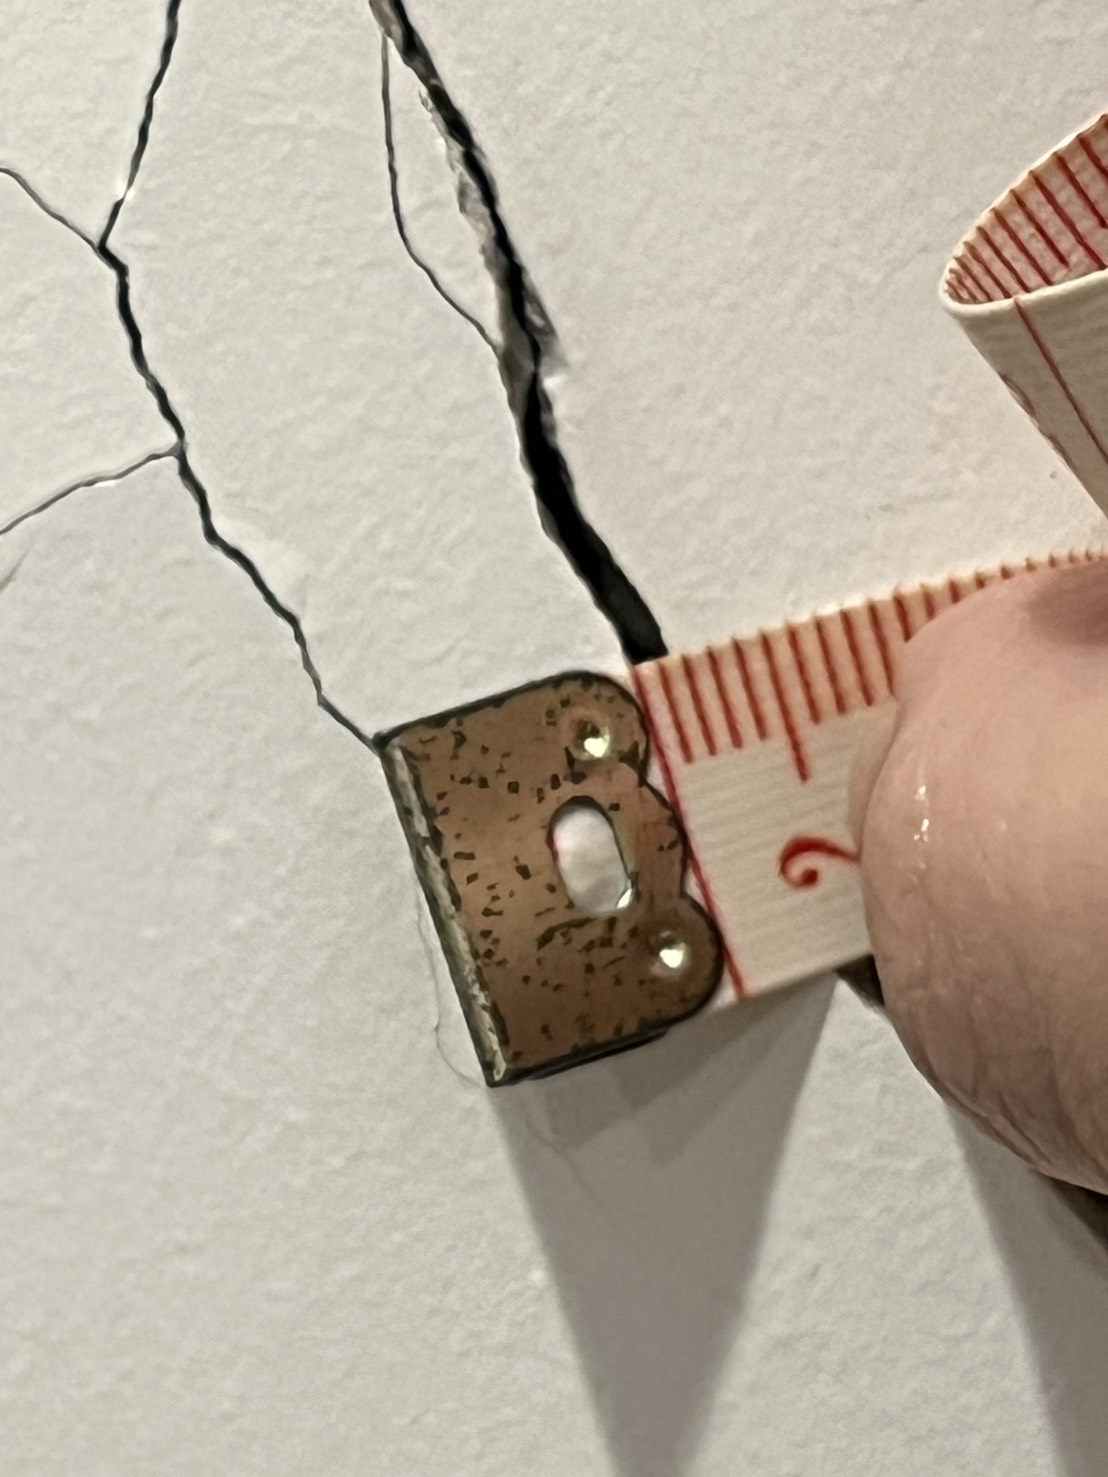Medium: (55, 10, 687, 642)
